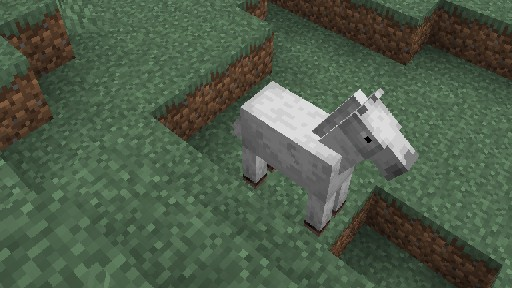horse: (230, 80, 419, 236)
